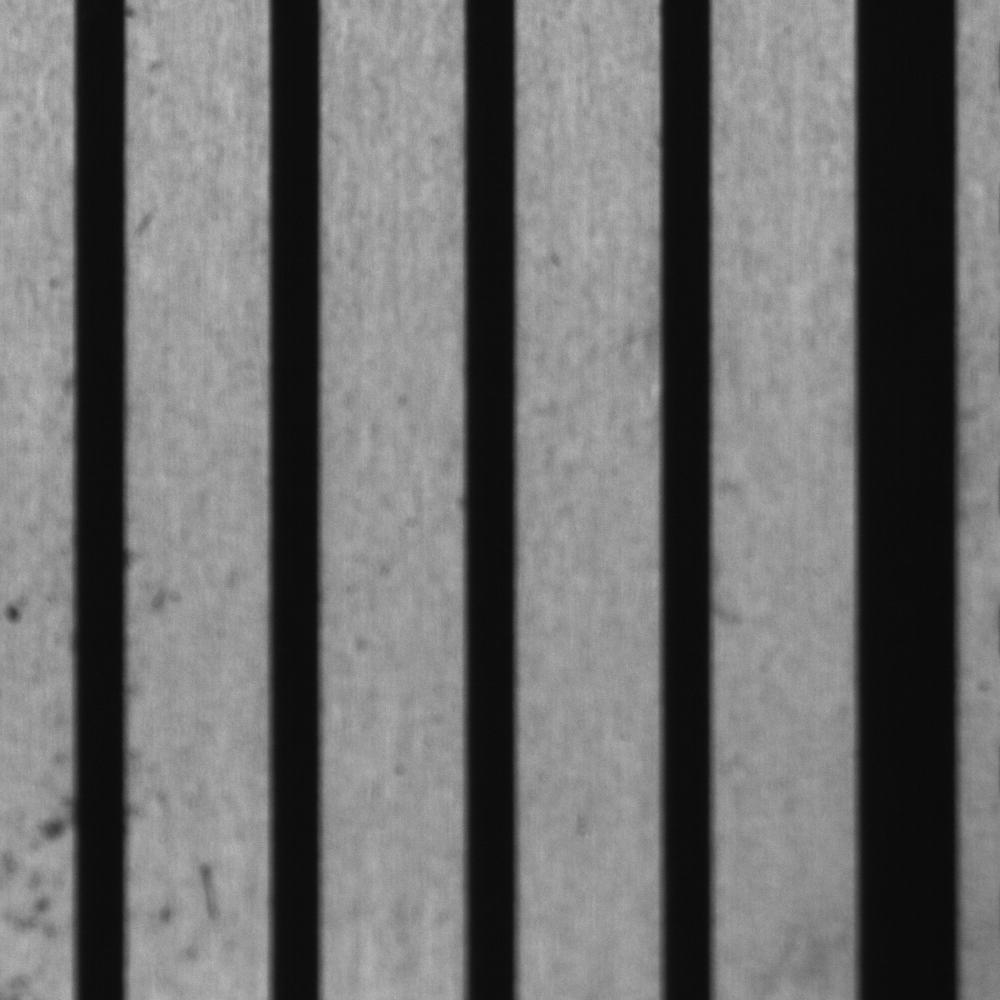Etching: (3, 723, 79, 948), (125, 538, 192, 621), (123, 723, 171, 829)
Pinhole: (3, 587, 34, 633)
Scar: (188, 844, 238, 937), (128, 174, 171, 261)
